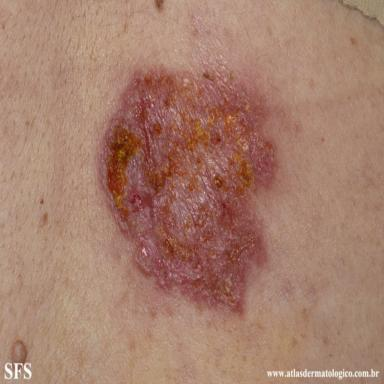Hailey-Hailey-Disease: (96, 52, 281, 318)
